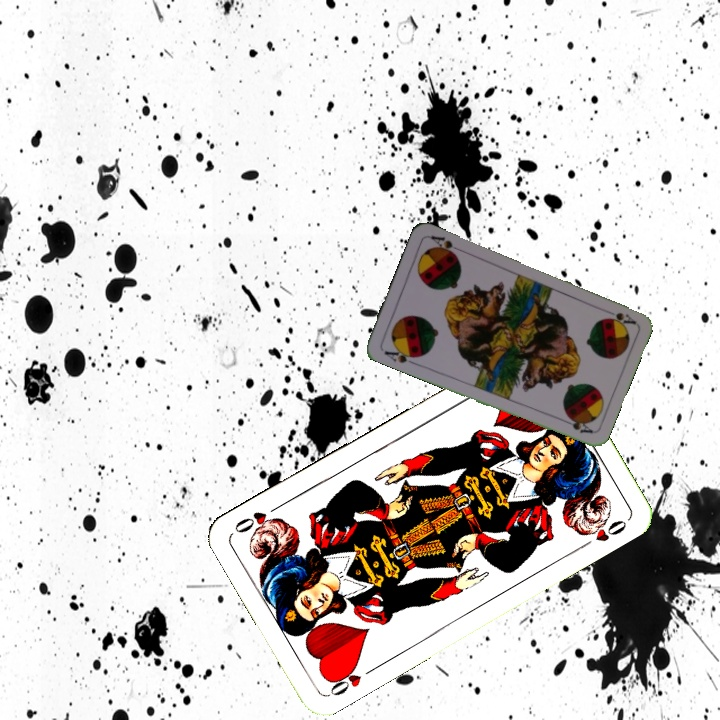HO: (324, 660, 379, 699)
SA: (380, 343, 420, 367), (605, 308, 638, 327)
